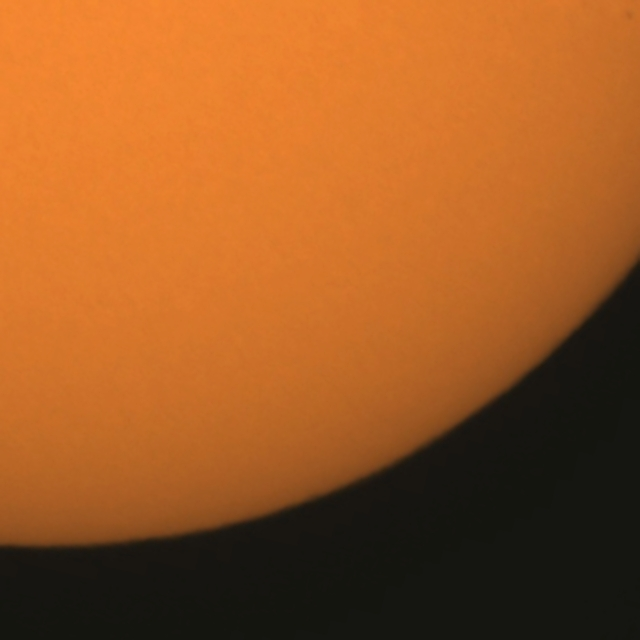sunspot: (624, 6, 638, 23)
